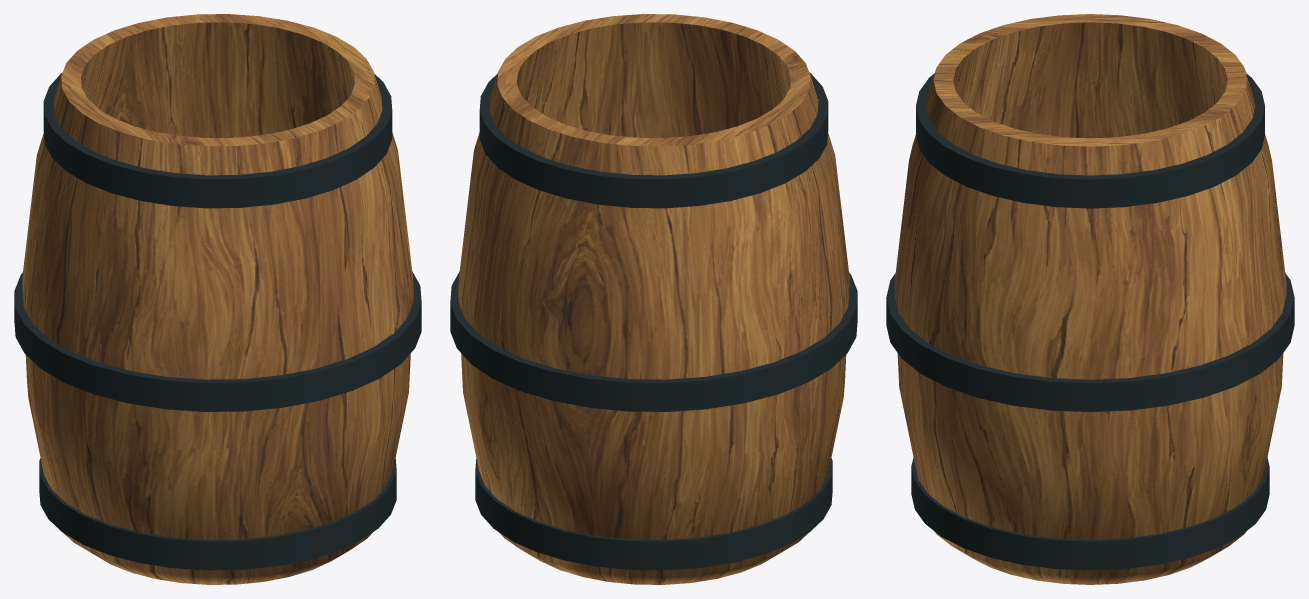
File: 17_Barril_Abierto.obj
3 views of the same model, side by side, from view 1: azimuth 30°, elevation 25°; view 2: azimuth 150°, elevation 25°; view 3: azimuth 270°, elevation 25° (orthographic).
Visible parts, largest first — view 1: 17_Barril_Abierto_Wood, 17_Barril_Abierto_Iron; view 2: 17_Barril_Abierto_Wood, 17_Barril_Abierto_Iron; view 3: 17_Barril_Abierto_Wood, 17_Barril_Abierto_Iron.
Part boxes in pixels (left/top/right/bottom): 17_Barril_Abierto_Wood: left=22, top=14, right=413, bottom=584; 17_Barril_Abierto_Iron: left=14, top=72, right=421, bottom=570; 17_Barril_Abierto_Wood: left=458, top=14, right=849, bottom=584; 17_Barril_Abierto_Iron: left=450, top=72, right=857, bottom=570; 17_Barril_Abierto_Wood: left=894, top=14, right=1286, bottom=584; 17_Barril_Abierto_Iron: left=886, top=73, right=1294, bottom=570.
Bounding box in the file's own units: 0.832 × 1 × 0.832.
2 materials, 1 textured.
